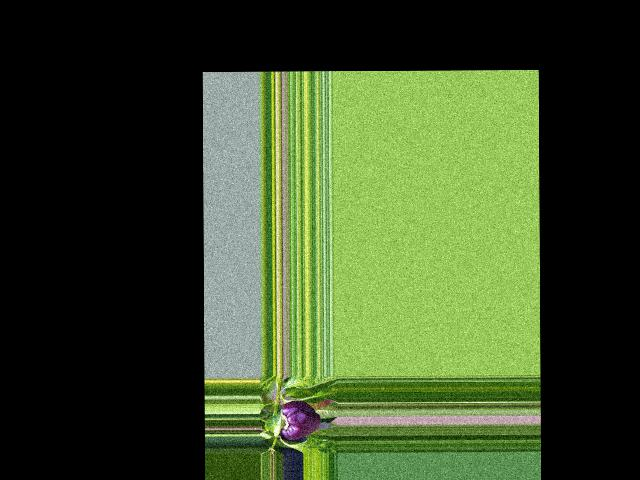bell_pepper: (275, 399, 322, 439)
